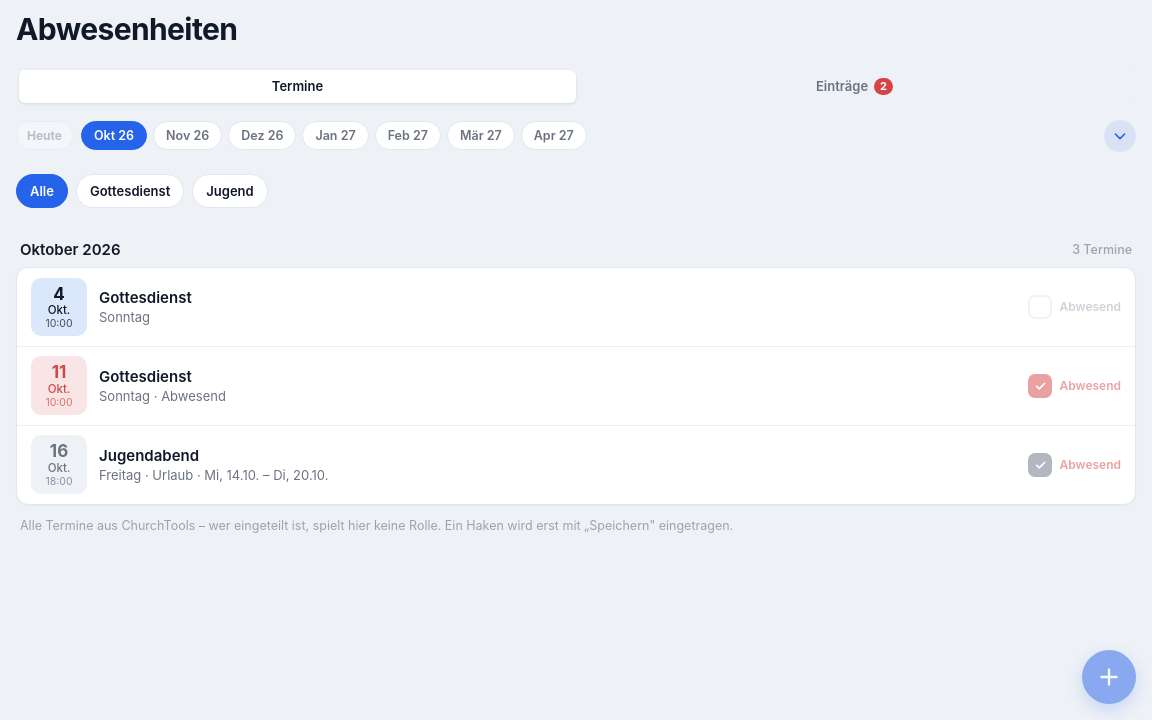
Test: Abwesenheiten – Plus und offline › offline sind Kästchen und Plus gesperrt, Ansehen geht
This screenshot has width=1152, height=720.
Expected: the button with aria-label "So, 04.10." is disabled, [1022,291,1121,323]
Expected: the button named "Zeitraum eintragen" is disabled, [1082,650,1136,704]
Click the button "Einträge 2" at coordinates (854, 86), box [576,70,1133,102]
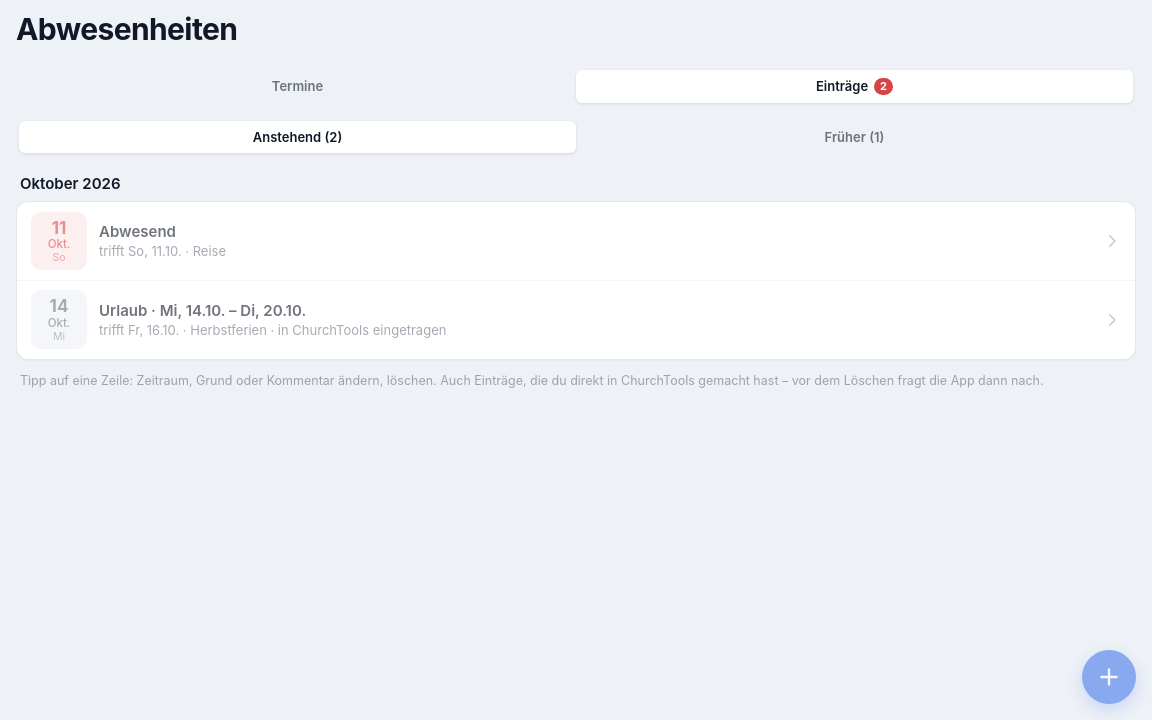
Click the button "Früher (1)" at coordinates (854, 136), box [576,120,1133,152]
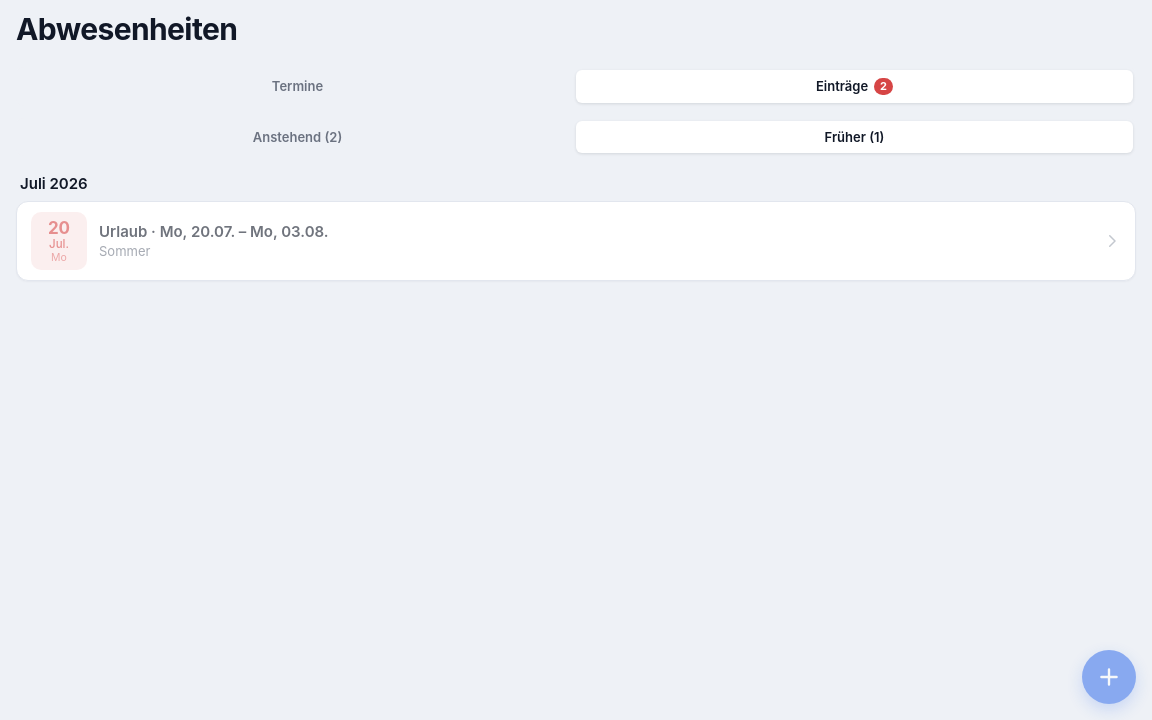
Now the button with aria-label "ansehen" is enabled, box [17,202,1135,280]
